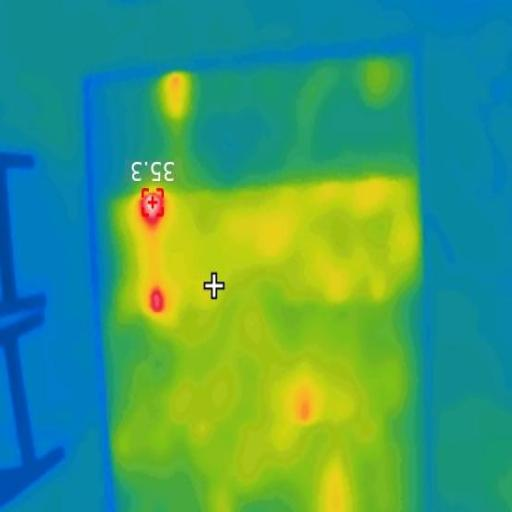hotspot: (136, 185, 165, 226), (146, 284, 164, 314)
